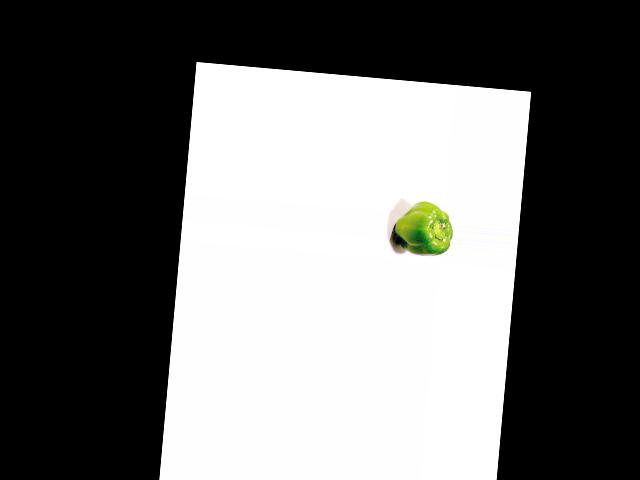bell_pepper: (389, 196, 455, 259)
